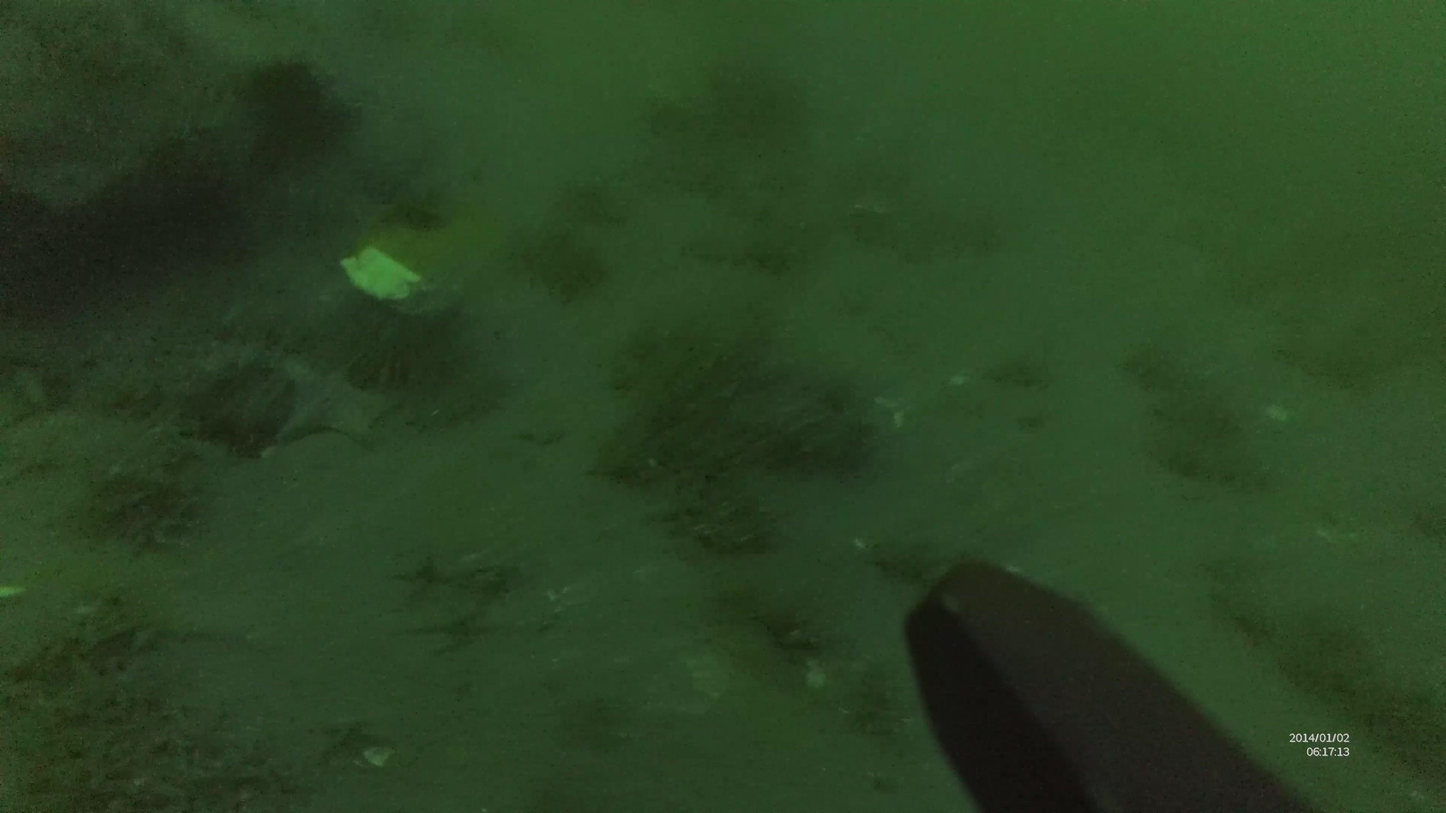holothurian: (276, 359, 393, 457), (398, 612, 496, 664), (444, 560, 517, 621), (389, 551, 461, 612), (307, 713, 390, 765)
scallop: (336, 246, 427, 305)
